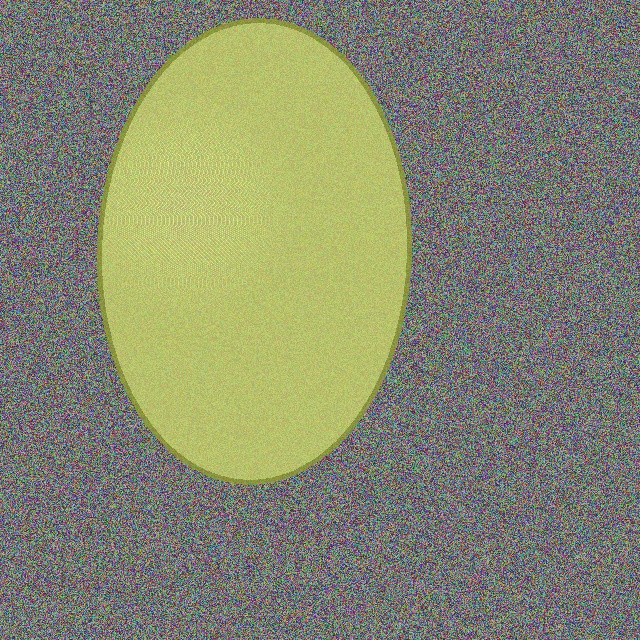lens: (99, 20, 409, 482)
